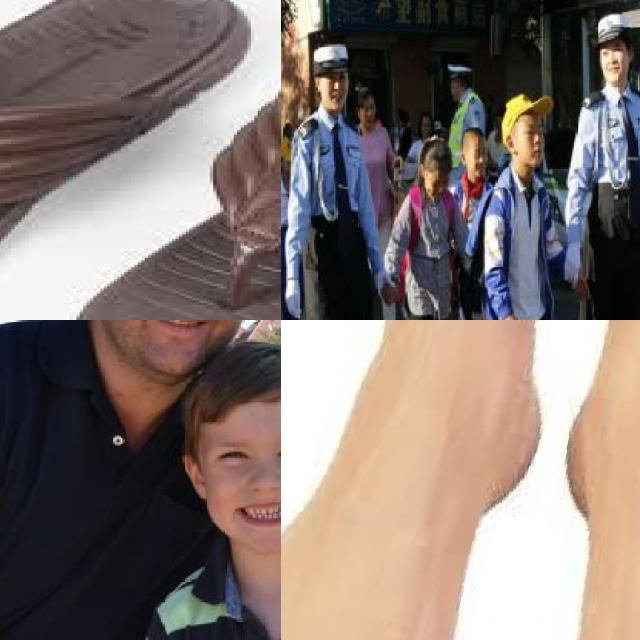Barefoots: (281, 320, 543, 640), (552, 323, 640, 640)
No_Glasses: (207, 433, 281, 474)
Sandals: (0, 0, 281, 320)
face_nomask: (212, 436, 281, 527), (317, 72, 352, 115), (603, 38, 629, 94), (515, 126, 548, 163), (420, 166, 452, 204), (464, 148, 488, 182)
hand_glove: (371, 264, 394, 296), (283, 280, 302, 317)
hand_noglove: (571, 270, 591, 304), (382, 280, 398, 304)
head_nohelmet: (181, 345, 281, 416), (498, 86, 548, 128), (592, 6, 630, 49), (423, 135, 452, 169), (460, 128, 485, 148)
person: (0, 320, 262, 640), (133, 342, 281, 640), (281, 44, 398, 320), (547, 0, 640, 320), (487, 78, 572, 320), (400, 137, 477, 320)
